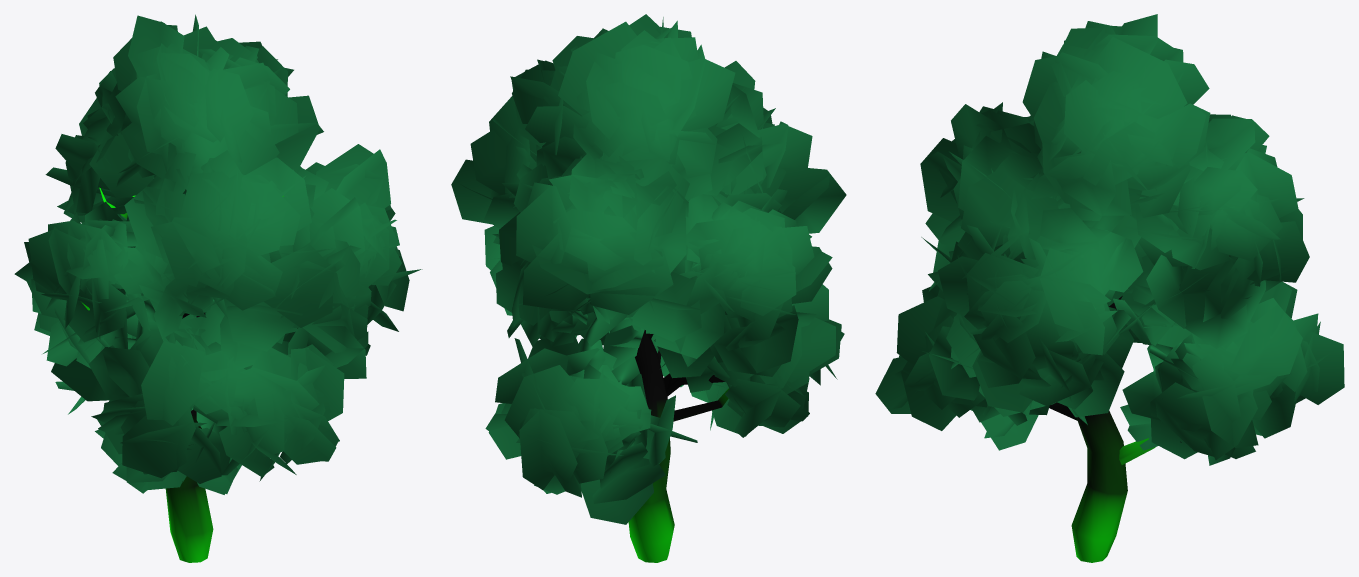
File: SM_OakTree3.fbx
The picture shows the model from 3 angles, left to right: view 1: azimuth 30°, elevation 25°; view 2: azimuth 150°, elevation 25°; view 3: azimuth 270°, elevation 25°; orthographic projection. The views are drawn at different scales.
Parts seen in each view (by area): view 1: SM_OakTree3_LOD0; view 2: SM_OakTree3_LOD0; view 3: SM_OakTree3_LOD0.
Part boxes in pixels (x1,y1,x2,y2): SM_OakTree3_LOD0: [14, 14, 422, 562]; SM_OakTree3_LOD0: [451, 14, 846, 562]; SM_OakTree3_LOD0: [875, 14, 1344, 562].
Size of the model in its own units: 1253 by 1794 by 1437.
